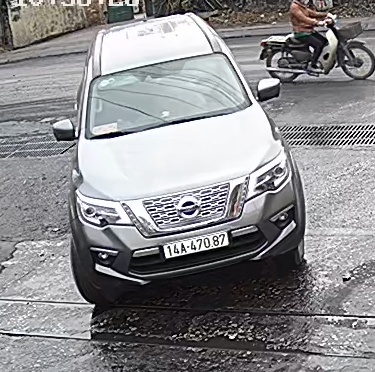vehicle plate: (161, 229, 231, 259)
